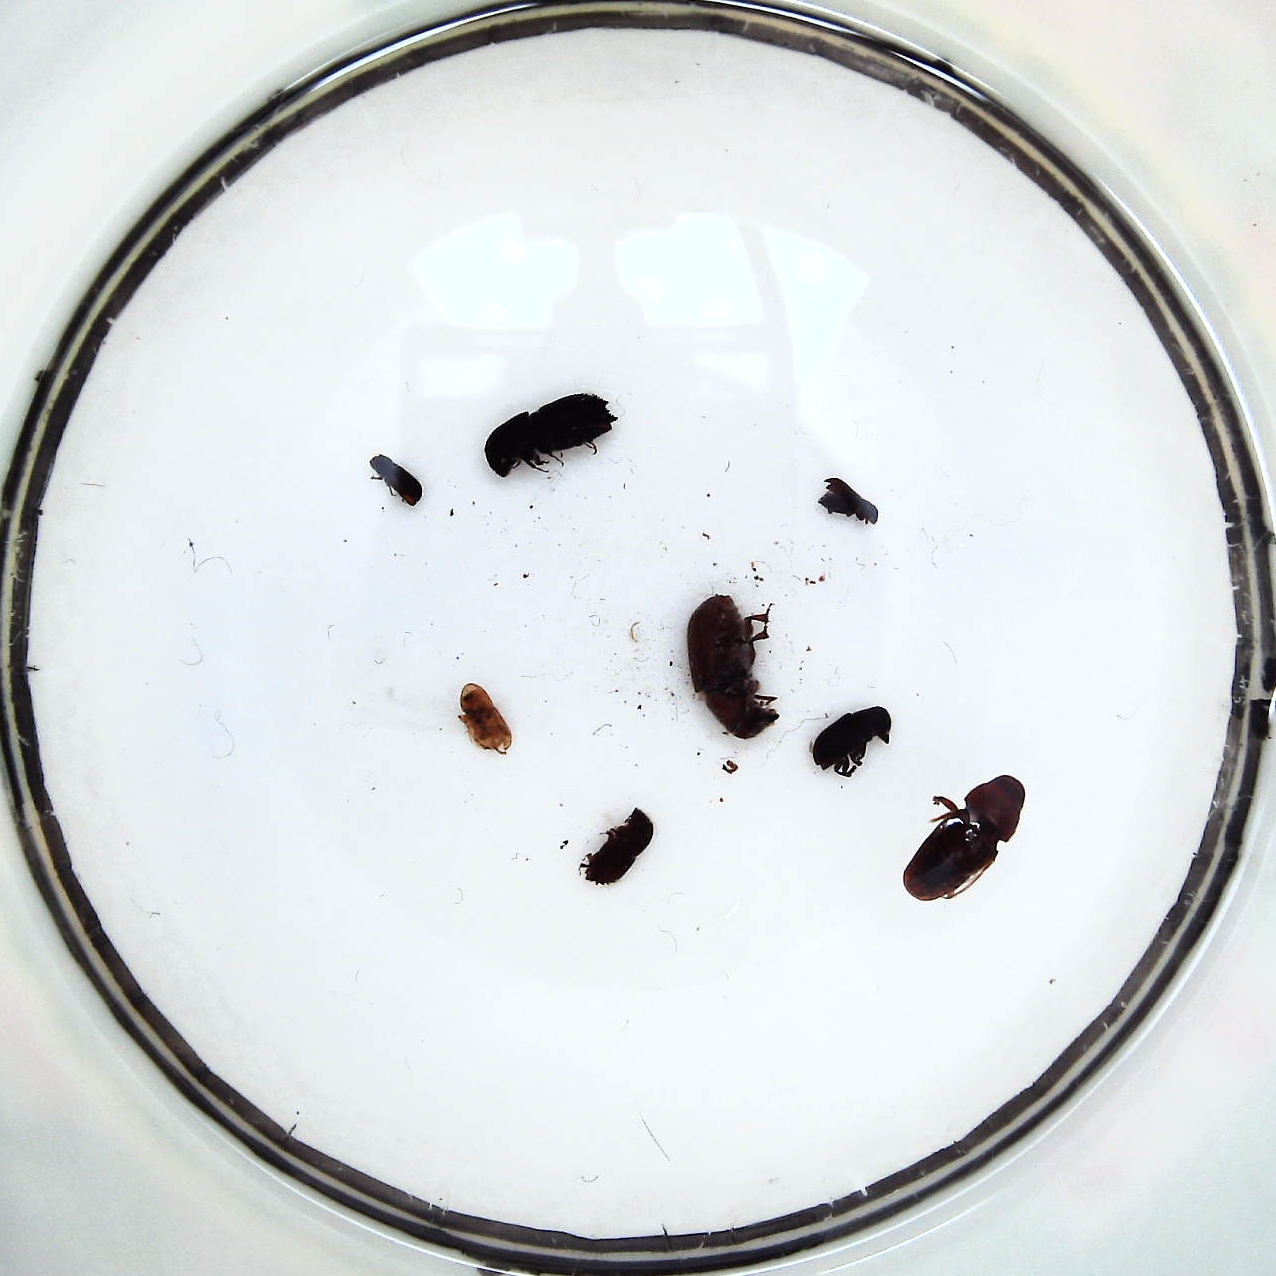Boerner: (484, 393, 620, 478)
Leconte: (904, 774, 1026, 902), (689, 594, 778, 738)
acuminatus: (818, 478, 879, 523), (369, 455, 422, 505)
armandi: (812, 707, 892, 771)
coleoptera: (455, 681, 511, 751)
linnaeus: (583, 807, 654, 885)
